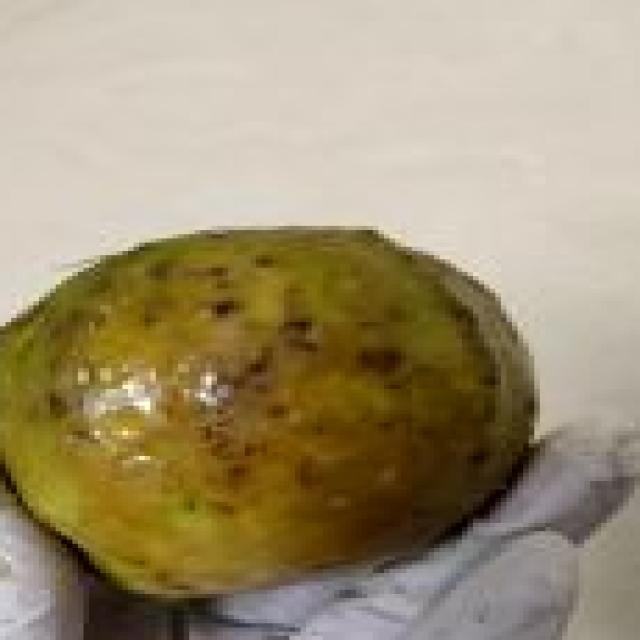Bad_Guava 0 day: (0, 230, 531, 597)
